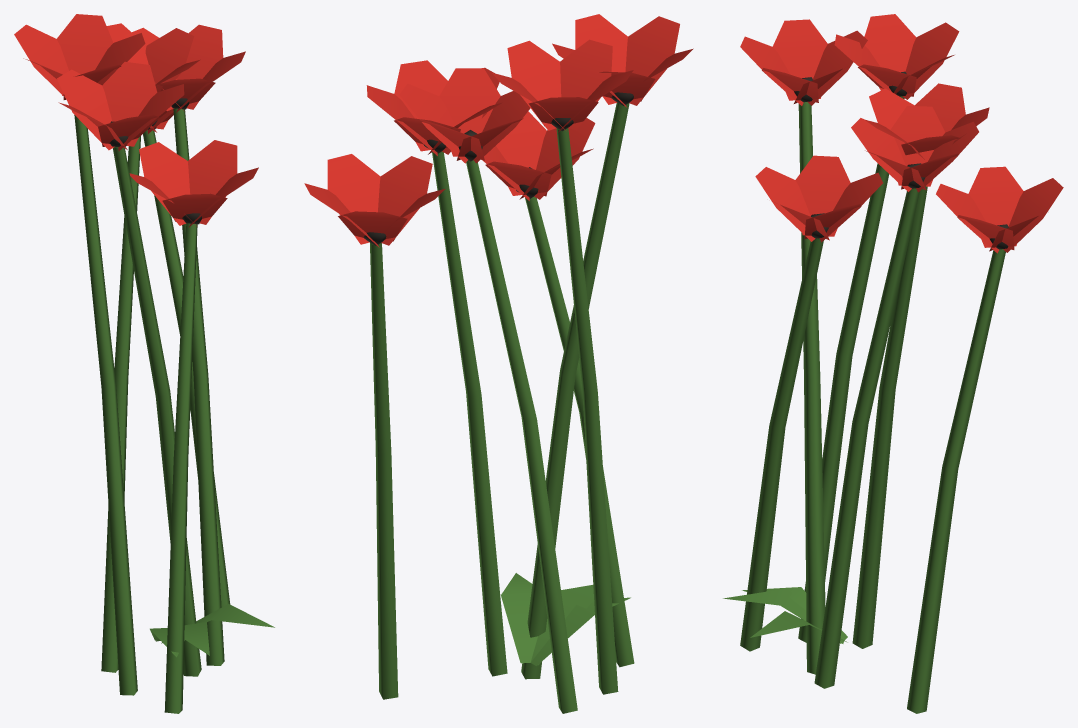
Rendered from poppies_1.glb.
3 renders of one model, left to right at view 1: azimuth 30°, elevation 25°; view 2: azimuth 150°, elevation 25°; view 3: azimuth 270°, elevation 25°, orthographic. The views are drawn at different scales.
Parts seen in each view (by area): view 1: poppies_1; view 2: poppies_1; view 3: poppies_1.
Part boxes in pixels (x1,y1,x2,y2): poppies_1: (14,14,274,713); poppies_1: (304,14,693,713); poppies_1: (723,14,1063,713).
Size of the model in its own units: 0.2995 by 0.7256 by 0.3756.
